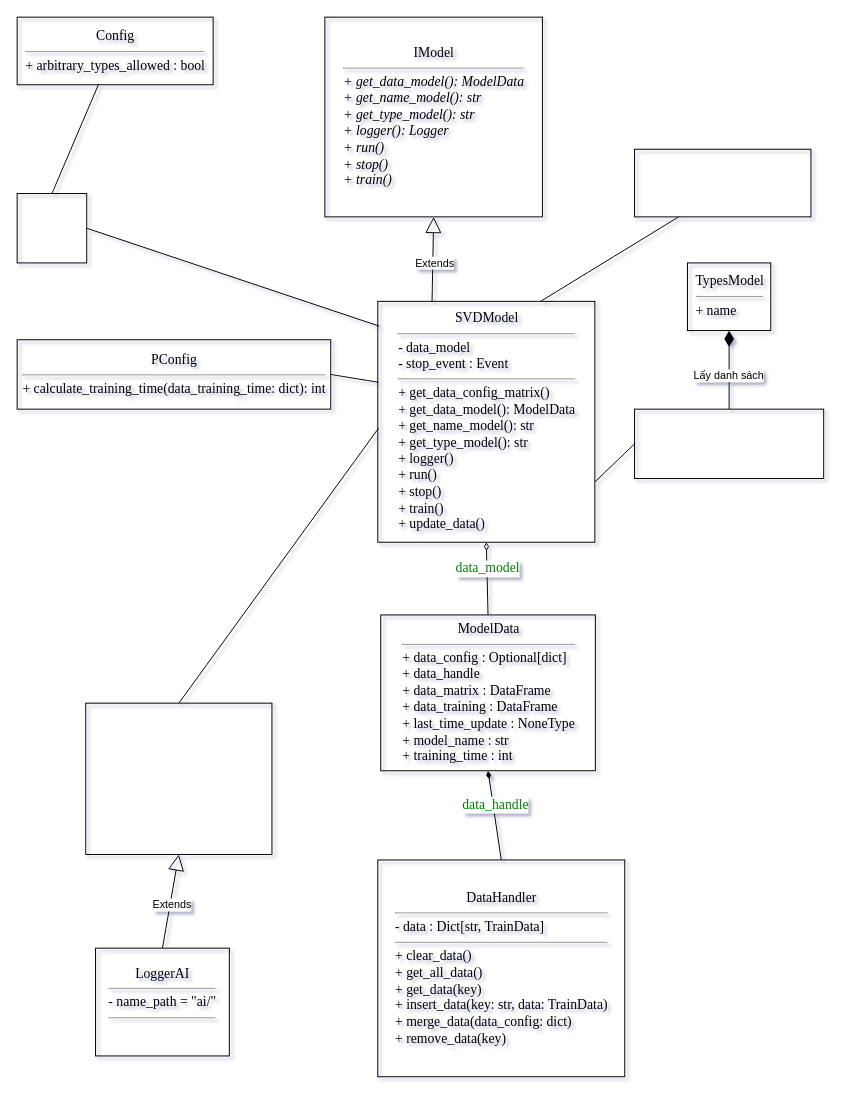
The diagram is 847 pixels wide and 1101 high, and some of its shapes have lost their labels. Each missing label, with the box of its shape:
Logger ( Hệ thống Con) - add_text : str - child_path : str - name_path : str ...: (85, 702, 272, 854)
SystemAI + run(): (16, 193, 87, 263)
TrainData + train_data : DataFrame: (634, 148, 811, 217)
UtilsTypeModel + get_list_types_model(): List[str]: (634, 408, 824, 479)
